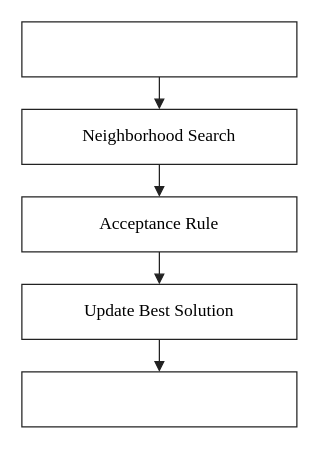
This 319x449 diagram has some shape labels left out. The centre of each missing label's shape, as x and y in pixels:
"Initial Solution" goes at point (159, 49).
"Stop Criterion" goes at point (159, 399).
